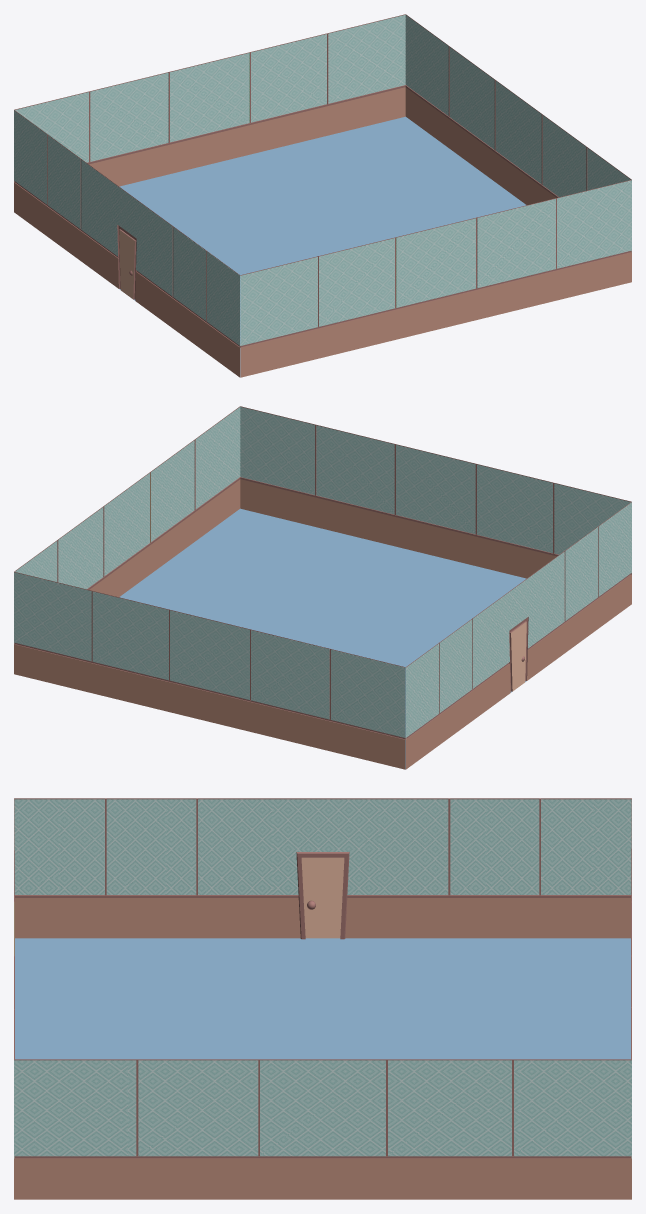
Rendered from Room.fbx.
3 renders of one model, top to bottom at view 1: azimuth 30°, elevation 25°; view 2: azimuth 150°, elevation 25°; view 3: azimuth 270°, elevation 25°, orthographic. The views are drawn at different scales.
Parts seen in each view (by area): view 1: Plane; view 2: Plane; view 3: Plane.
Part boxes in pixels (bbox=[...]): Plane: bbox=[14, 14, 631, 377]; Plane: bbox=[14, 406, 631, 769]; Plane: bbox=[14, 798, 631, 1199].
Bounding box in the file's own units: 1004 × 250 × 1000.
